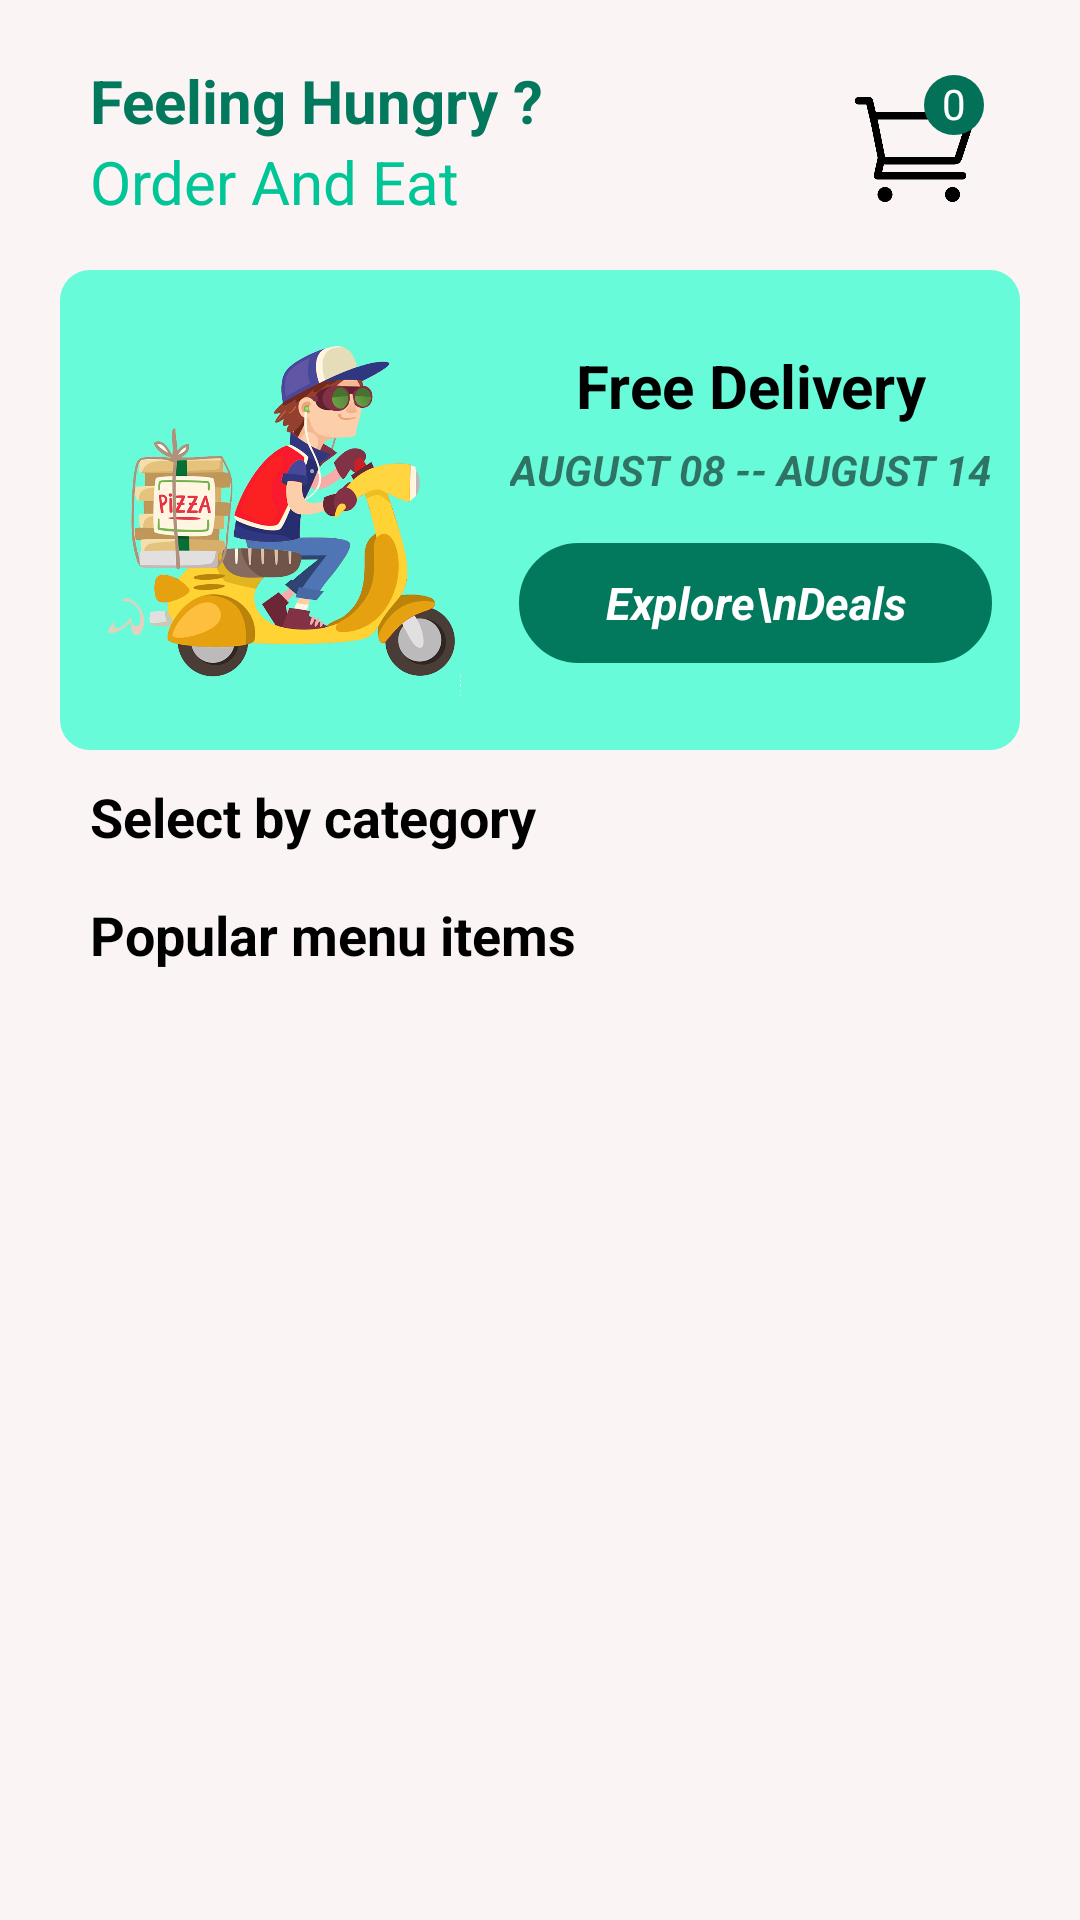

Where to tap for icons on this 1080px x 1920px app screen, as (x,y):
cart: (915,142)
